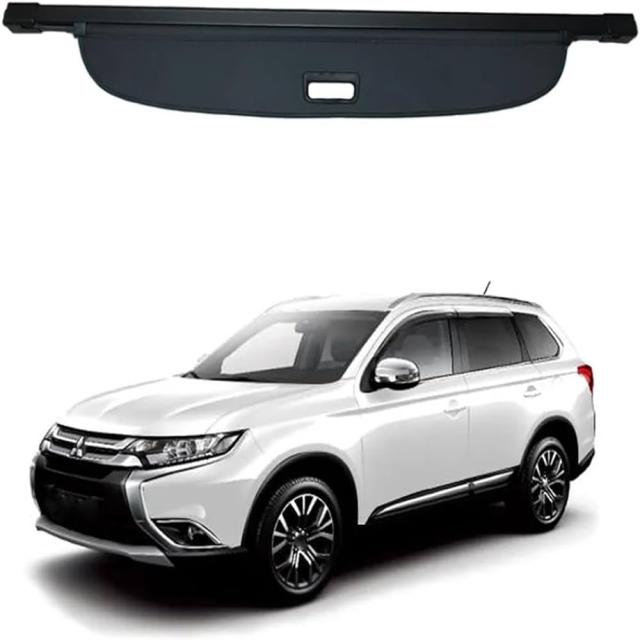light_vehicle: (31, 291, 597, 607)
